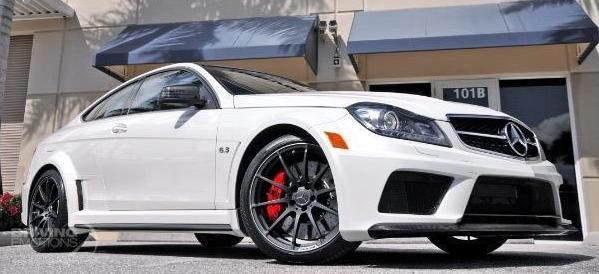C63AMG: (13, 54, 572, 253)
